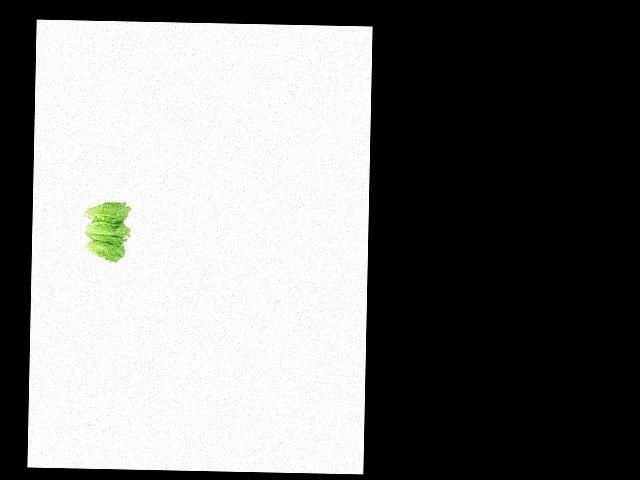lettuce: (74, 237, 127, 263)
